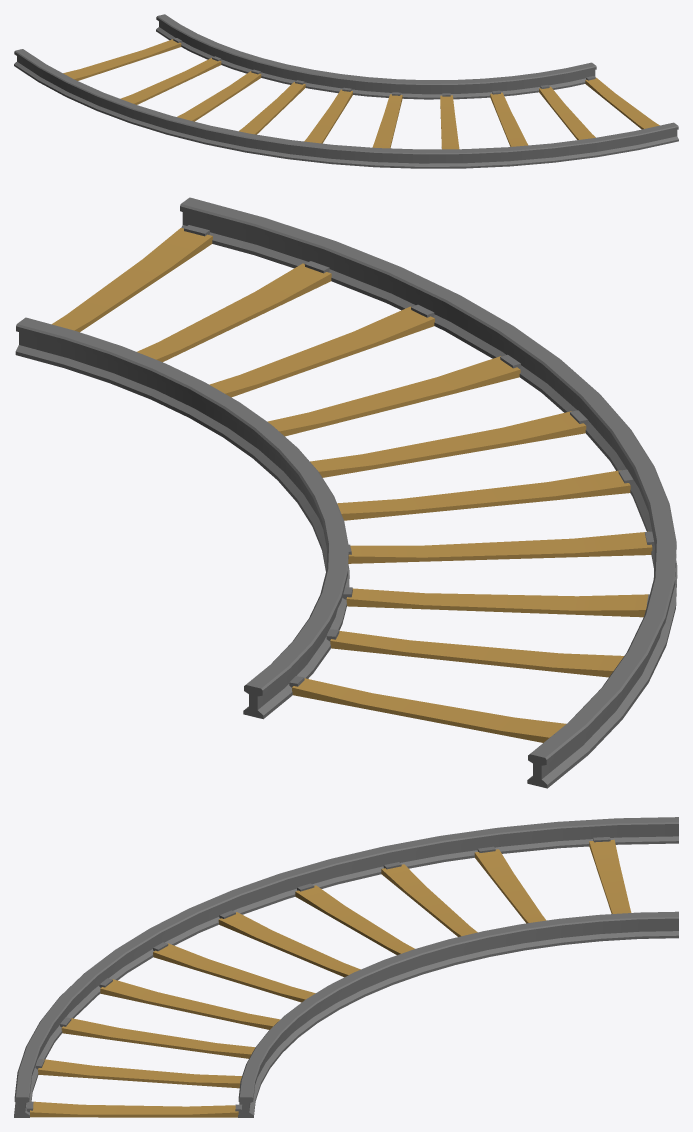
The model's file is SM_TrainTrack90Angle.fbx.
3 views of the same model, one above another, from view 1: azimuth 30°, elevation 25°; view 2: azimuth 150°, elevation 25°; view 3: azimuth 270°, elevation 25° (orthographic). The views are drawn at different scales.
Visible parts, largest first — view 1: SM_TrainTrack90Angle; view 2: SM_TrainTrack90Angle; view 3: SM_TrainTrack90Angle.
Boxes of the visible parts, x1=… form: SM_TrainTrack90Angle: x1=14, y1=14, x2=678, y2=168; SM_TrainTrack90Angle: x1=15, y1=197, x2=677, y2=788; SM_TrainTrack90Angle: x1=14, y1=817, x2=678, y2=1117.
Bounding box in the file's own units: 777 × 26.51 × 777.
